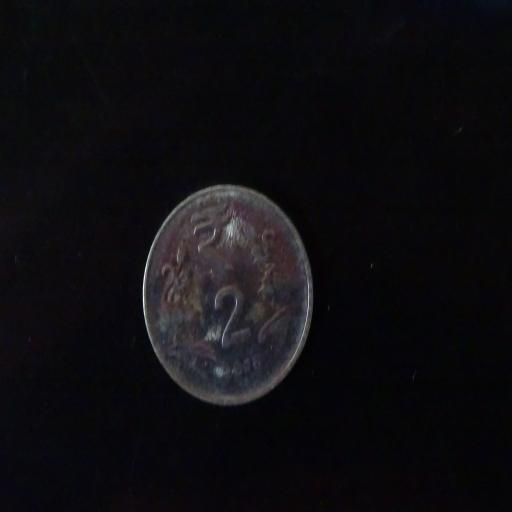rupee2: (133, 181, 318, 415)
